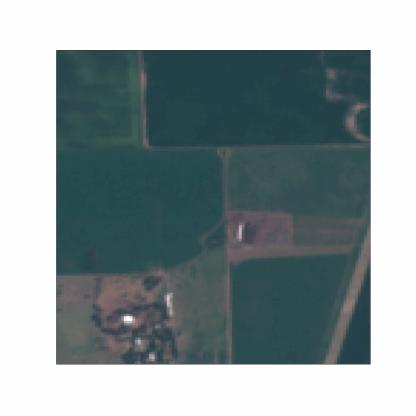silobolsa: (236, 221, 245, 246), (165, 292, 174, 316)
